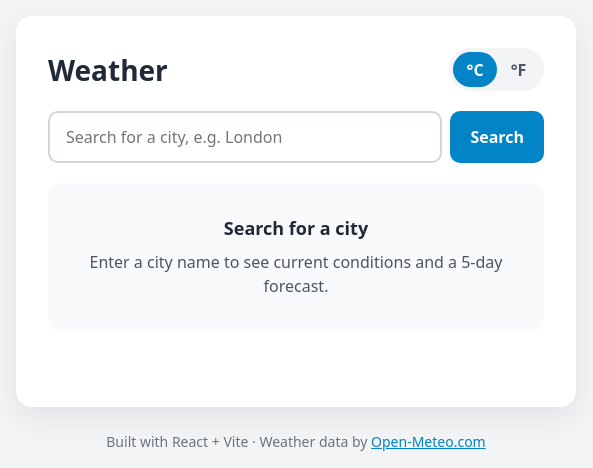
Test case: App › shows a loading indicator while waiting for data
The image size is (593, 468).
Step 1. Type "Paris" into the search field named "City name" → {"x": 245, "y": 137}, box x1=48 y1=111 x2=442 y2=163
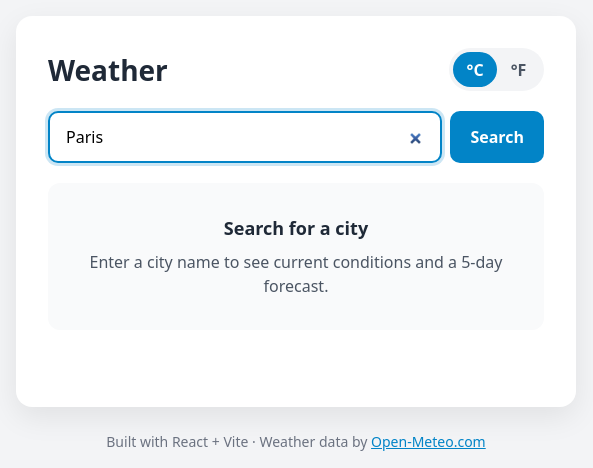
Step 2. Click the button "Search" → {"x": 497, "y": 137}, box x1=450 y1=111 x2=544 y2=163
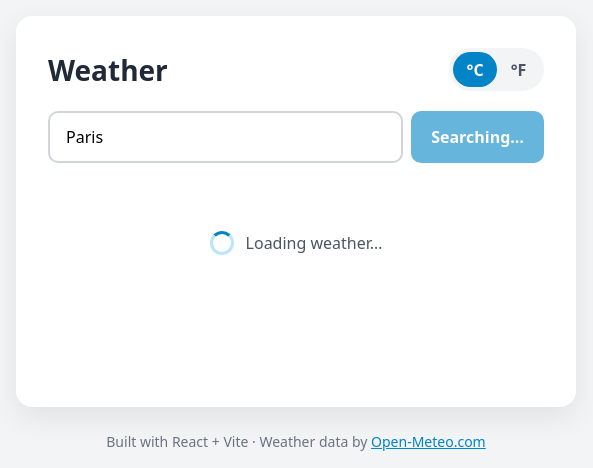
Expected: the message reads "Loading weather…", x1=246 y1=232 x2=382 y2=254
Expected: the button "Searching…" is disabled, x1=411 y1=111 x2=544 y2=163
